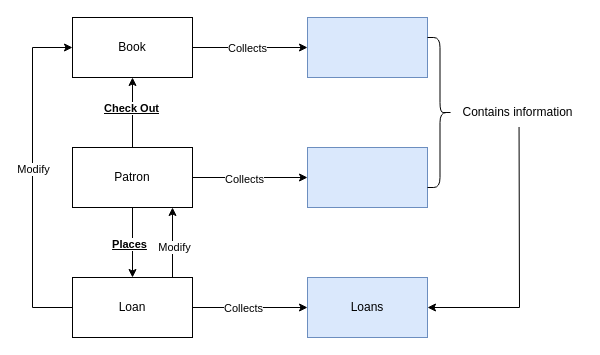
Image size: 600x355. Some labels were removed from this diagram. Here are the shapes that lost their labels. From the top down, the box of each, then its label:
(306, 16, 428, 78): Books
(306, 146, 428, 208): Patrons
